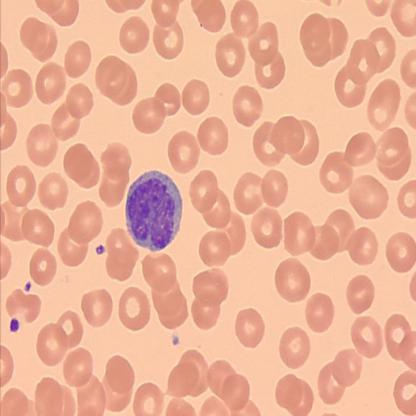Monocyte: (122, 167, 185, 254)
